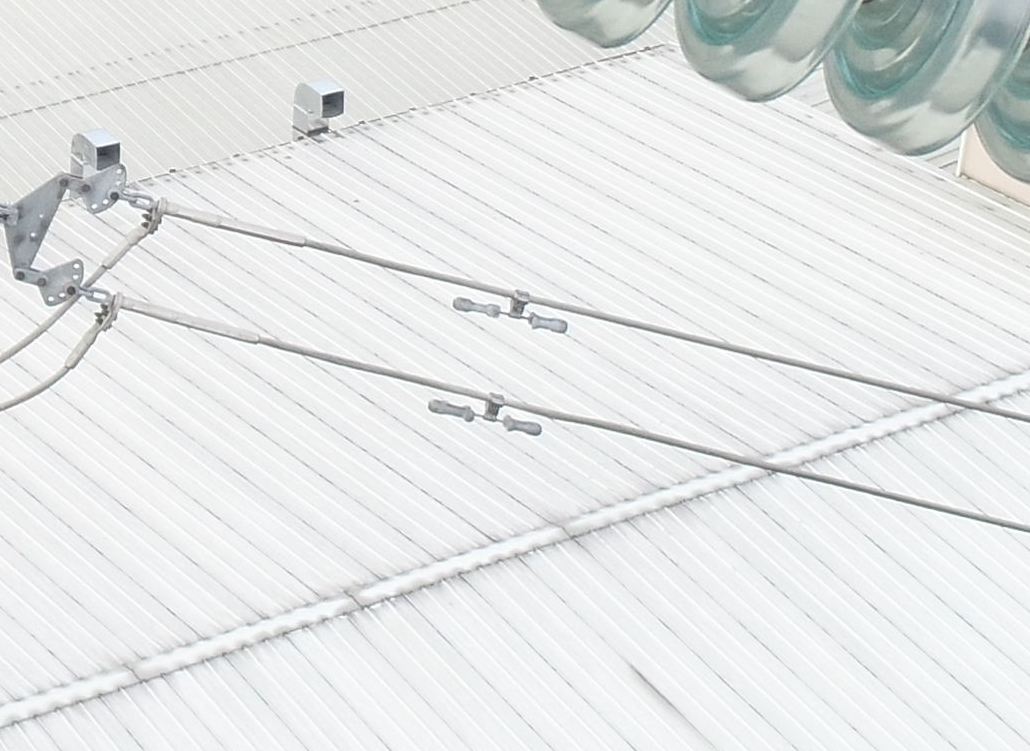damper: (428, 386, 545, 437), (451, 286, 569, 333)
